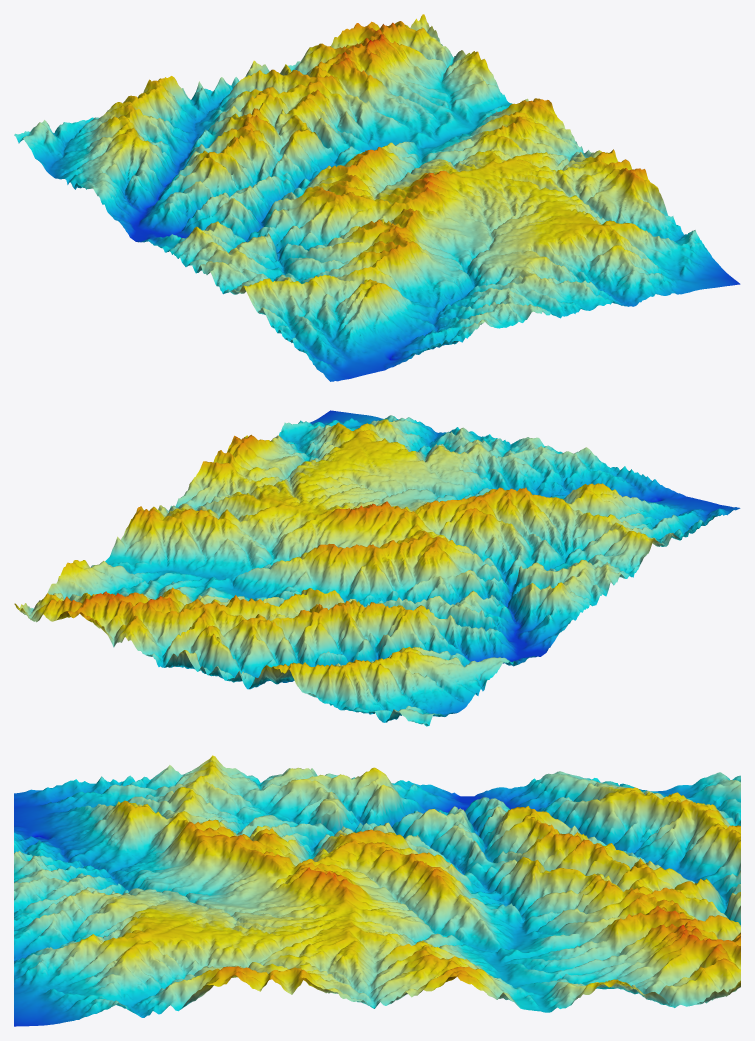
The model's file is sample_medium.glb.
3 renders of one model, top to bottom at view 1: azimuth 30°, elevation 25°; view 2: azimuth 150°, elevation 25°; view 3: azimuth 270°, elevation 25°, orthographic. The views are drawn at different scales.
Bounding box in the file's own units: 1114 × 132 × 1487.
